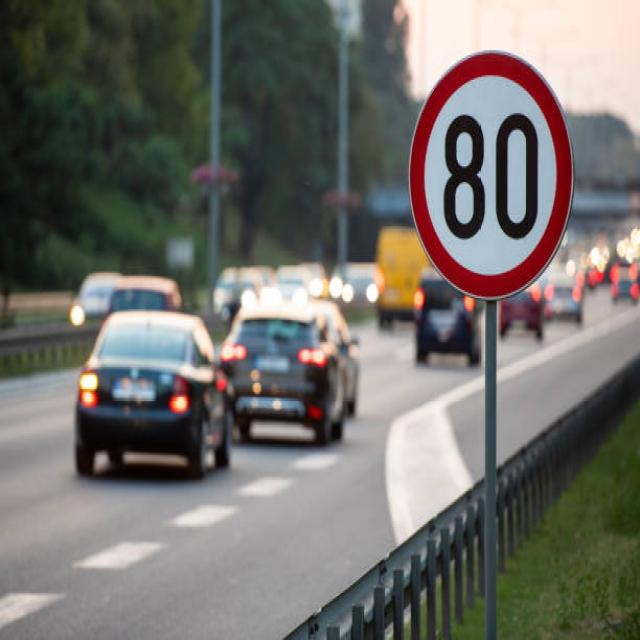Ad-signs: (407, 49, 574, 301)
Car: (72, 307, 233, 480), (412, 273, 480, 365), (498, 281, 544, 339)
Truck: (373, 224, 434, 328)
